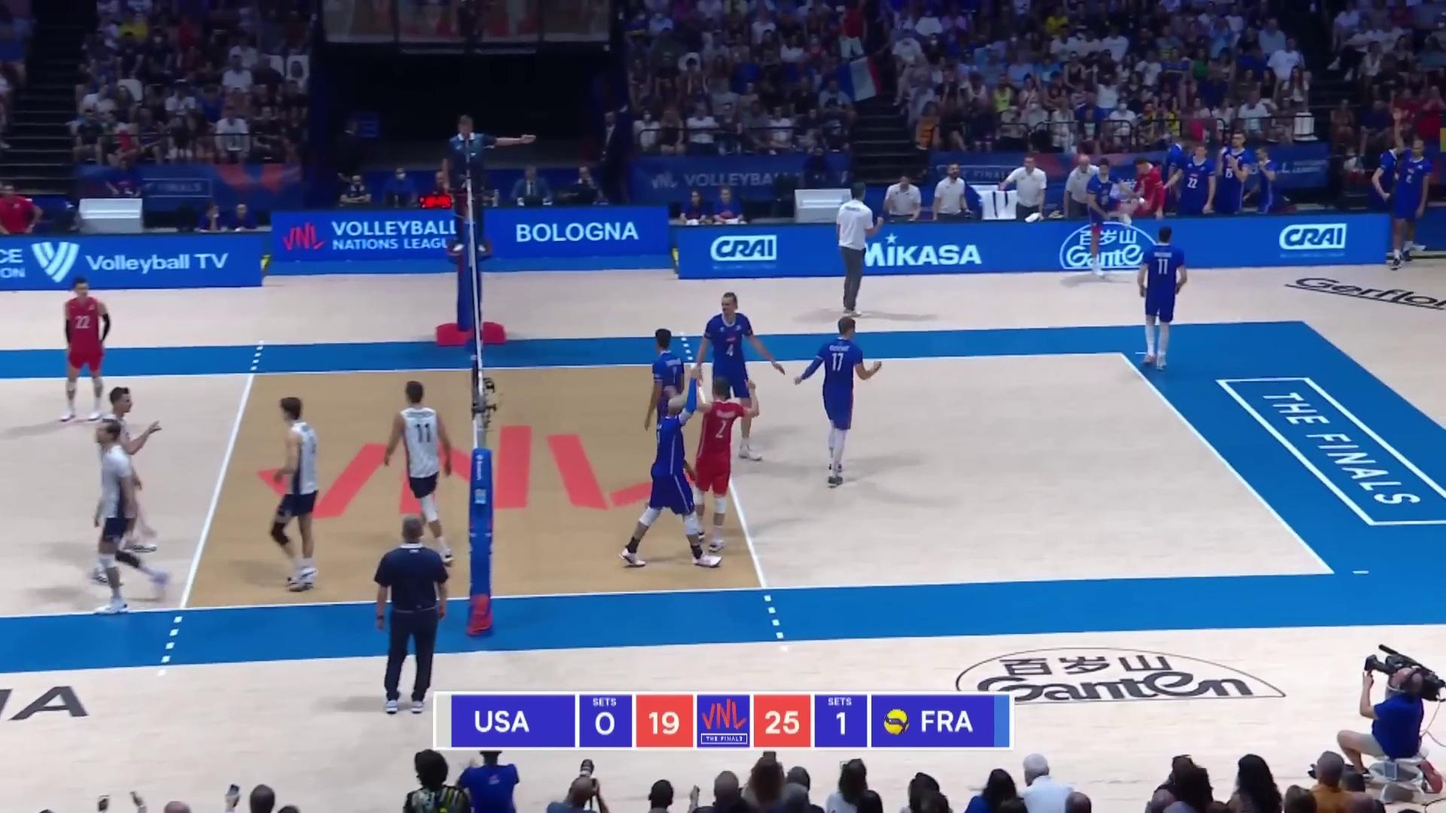player: (623, 395, 709, 568), (796, 316, 876, 486), (90, 385, 157, 581), (383, 381, 453, 565), (89, 422, 156, 614), (691, 375, 761, 556), (698, 291, 767, 467), (270, 396, 318, 595), (53, 277, 112, 423), (642, 328, 694, 491), (1137, 228, 1188, 370)
refree: (376, 519, 449, 715), (445, 117, 503, 257)
